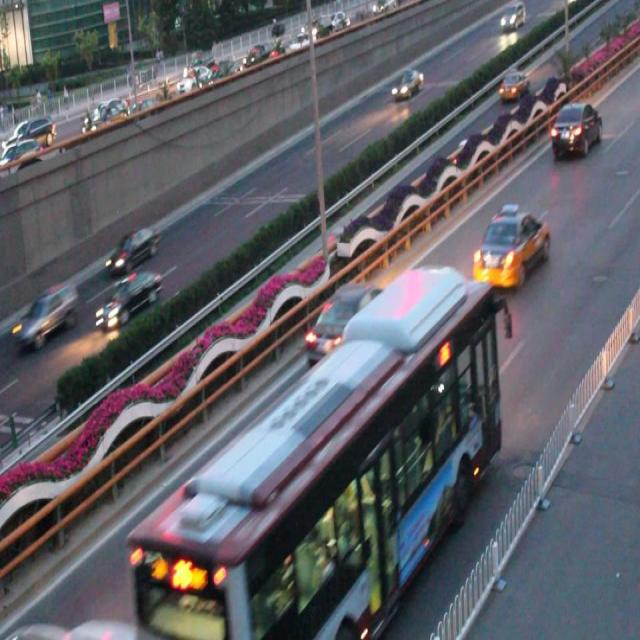car: (472, 202, 551, 289), (304, 282, 382, 360), (13, 282, 81, 346), (92, 271, 162, 328), (550, 100, 602, 156), (103, 224, 161, 271), (388, 68, 424, 104)
van: (120, 266, 498, 640)
